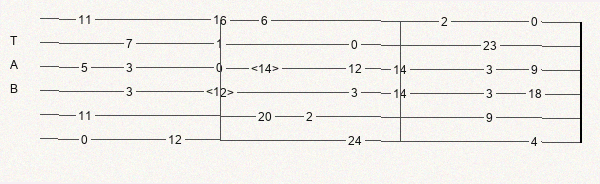0: (81, 134, 92, 147), (216, 62, 227, 75), (351, 38, 362, 51), (531, 14, 542, 27)
1: (216, 38, 227, 51)
11: (78, 14, 96, 27), (78, 110, 96, 123)
12: (168, 134, 186, 147), (348, 62, 366, 75)
14: (393, 62, 411, 75), (393, 86, 411, 99)
16: (213, 14, 231, 27)
18: (528, 86, 546, 99)
2: (306, 110, 317, 123), (441, 14, 452, 27)
20: (258, 110, 276, 123)
23: (483, 38, 501, 51)
24: (348, 134, 366, 147)
3: (126, 86, 137, 99), (126, 62, 137, 75), (351, 86, 362, 99), (486, 86, 497, 99), (486, 62, 497, 75)
4: (531, 134, 542, 147)
5: (81, 62, 92, 75)
6: (261, 14, 272, 27)
7: (126, 38, 137, 51)
9: (486, 110, 497, 123), (531, 62, 542, 75)
harmonic: (206, 86, 238, 99), (251, 62, 283, 75)
